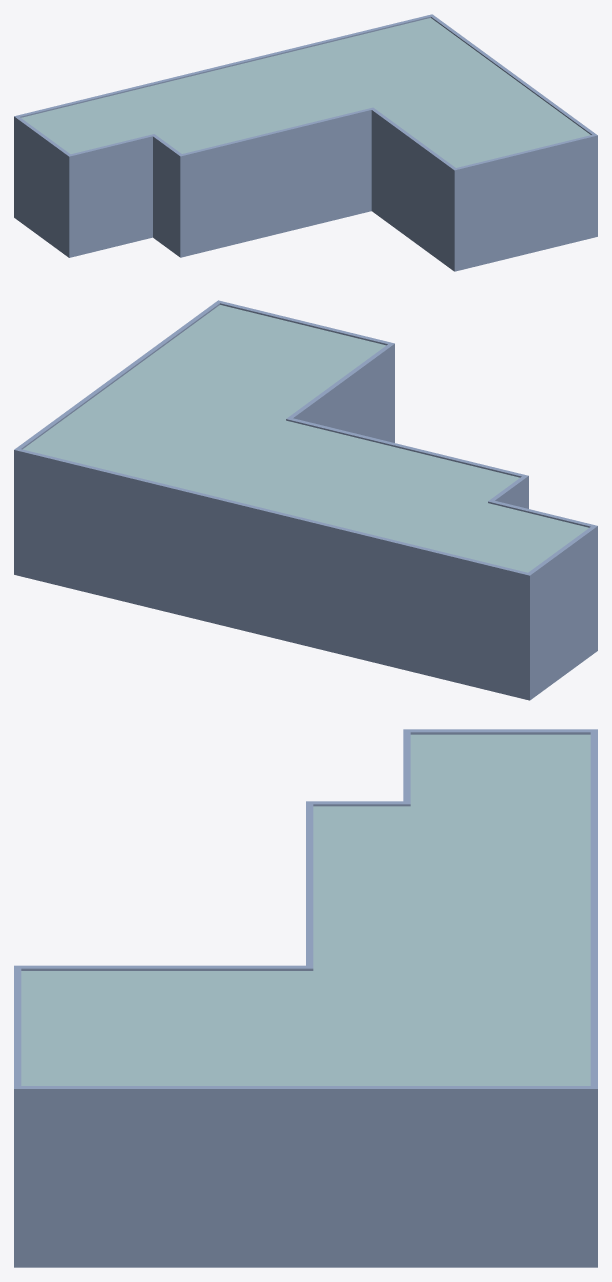
The model's file is plot2.fbx.
3 renders of one model, top to bottom at view 1: azimuth 30°, elevation 25°; view 2: azimuth 150°, elevation 25°; view 3: azimuth 270°, elevation 25°, orthographic. The views are drawn at different scales.
Visible parts, largest first — view 1: plot2_level0_floor, plot2_level-1_walls, plot2_level-2_walls; view 2: plot2_level0_floor, plot2_level-1_walls, plot2_level-2_walls; view 3: plot2_level0_floor, plot2_level-1_walls, plot2_level-2_walls.
Boxes of the visible parts, x1=… form: plot2_level0_floor: x1=21, y1=18, x2=590, y2=167; plot2_level-1_walls: x1=14, y1=14, x2=597, y2=221; plot2_level-2_walls: x1=14, y1=161, x2=597, y2=271; plot2_level0_floor: x1=23, y1=305, x2=588, y2=572; plot2_level-1_walls: x1=14, y1=300, x2=597, y2=638; plot2_level-2_walls: x1=14, y1=407, x2=597, y2=700; plot2_level0_floor: x1=21, y1=734, x2=590, y2=1085; plot2_level-1_walls: x1=14, y1=729, x2=597, y2=1179; plot2_level-2_walls: x1=14, y1=1179, x2=597, y2=1267.
Bounding box in the file's own units: 3500 × 810 × 2400.
